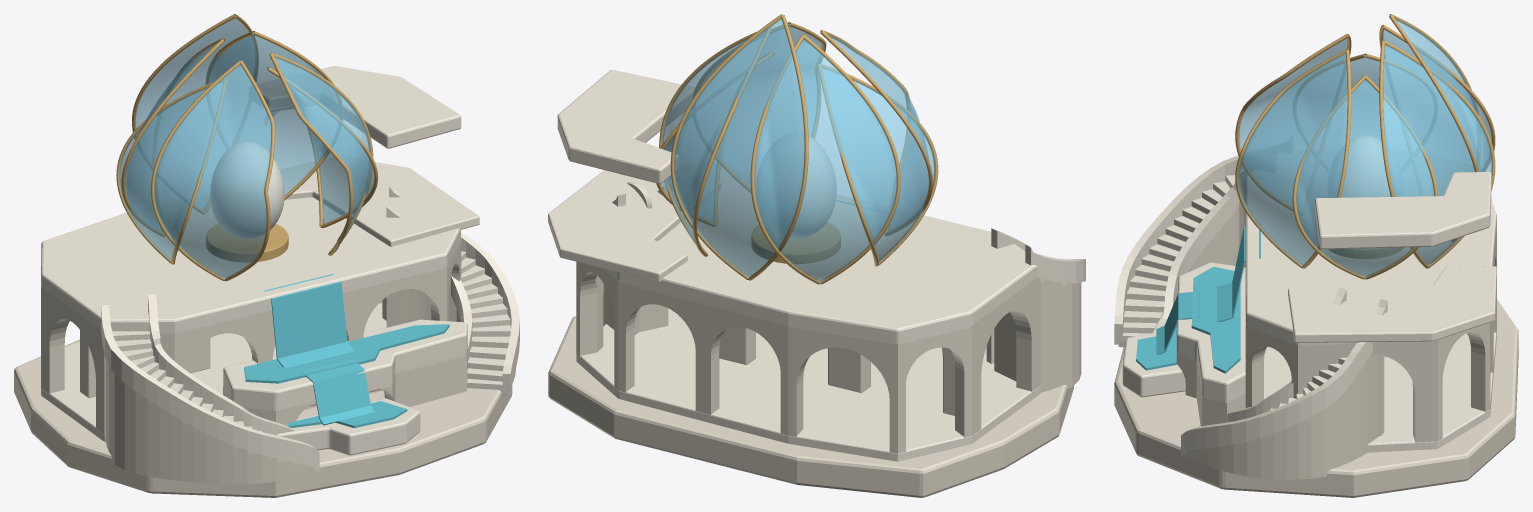
The model's file is blockout-b02.glb.
3 views of the same model, side by side, from view 1: azimuth 30°, elevation 25°; view 2: azimuth 150°, elevation 25°; view 3: azimuth 270°, elevation 25° (orthographic). The views are drawn at different scales.
Visible parts, largest first — view 1: terraces-level1-light-limestone, terraces-level1-ivory-limestone, conservatory-level2-blue-petal-glass, conservatory-level1-blue-petal-glass, wings-level2-light-limestone, terraces-level1-cascade-water, wings-level1-ivory-limestone, conservatory-level2-structural-brass, egg-level1-pale-egg, conservatory-level1-structural-brass, egg-level1-structural-brass; view 2: terraces-level1-light-limestone, conservatory-level2-blue-petal-glass, conservatory-level1-blue-petal-glass, terraces-level1-ivory-limestone, wings-level1-ivory-limestone, wings-level2-light-limestone, conservatory-level2-structural-brass, conservatory-level1-structural-brass, egg-level1-pale-egg, egg-level1-structural-brass; view 3: terraces-level1-light-limestone, terraces-level1-ivory-limestone, conservatory-level2-blue-petal-glass, wings-level2-light-limestone, conservatory-level1-blue-petal-glass, wings-level1-ivory-limestone, terraces-level1-cascade-water, conservatory-level2-structural-brass, conservatory-level1-structural-brass, egg-level1-pale-egg, egg-level1-structural-brass.
Part boxes in pixels (box(x1,y1,x2,y2)): terraces-level1-light-limestone: box(41, 183, 519, 471); terraces-level1-ivory-limestone: box(14, 258, 515, 497); conservatory-level2-blue-petal-glass: box(125, 32, 371, 279); conservatory-level1-blue-petal-glass: box(119, 15, 374, 261); wings-level2-light-limestone: box(257, 66, 479, 246); terraces-level1-cascade-water: box(244, 274, 449, 428); wings-level1-ivory-limestone: box(41, 238, 461, 434); conservatory-level2-structural-brass: box(121, 31, 373, 281); egg-level1-pale-egg: box(210, 142, 284, 238); conservatory-level1-structural-brass: box(116, 14, 377, 264); egg-level1-structural-brass: box(206, 224, 288, 262); terraces-level1-light-limestone: box(576, 166, 1085, 461); conservatory-level2-blue-petal-glass: box(661, 23, 929, 282); conservatory-level1-blue-petal-glass: box(660, 18, 935, 277); terraces-level1-ivory-limestone: box(548, 279, 1081, 497); wings-level1-ivory-limestone: box(576, 262, 1040, 453); wings-level2-light-limestone: box(548, 69, 721, 282); conservatory-level2-structural-brass: box(659, 22, 933, 284); conservatory-level1-structural-brass: box(656, 14, 938, 280); egg-level1-pale-egg: box(789, 136, 836, 238); egg-level1-structural-brass: box(751, 222, 840, 263); terraces-level1-light-limestone: box(1114, 155, 1496, 455); terraces-level1-ivory-limestone: box(1114, 181, 1518, 497); conservatory-level2-blue-petal-glass: box(1238, 29, 1492, 265); wings-level2-light-limestone: box(1288, 172, 1496, 342); conservatory-level1-blue-petal-glass: box(1296, 18, 1483, 277); wings-level1-ivory-limestone: box(1245, 228, 1496, 442); terraces-level1-cascade-water: box(1136, 224, 1260, 373); conservatory-level2-structural-brass: box(1235, 24, 1495, 268); conservatory-level1-structural-brass: box(1292, 14, 1478, 279); egg-level1-pale-egg: box(1341, 135, 1390, 197); egg-level1-structural-brass: box(1328, 247, 1403, 258).
Bounding box in the file's own units: 3.02 × 2.48 × 2.4.
